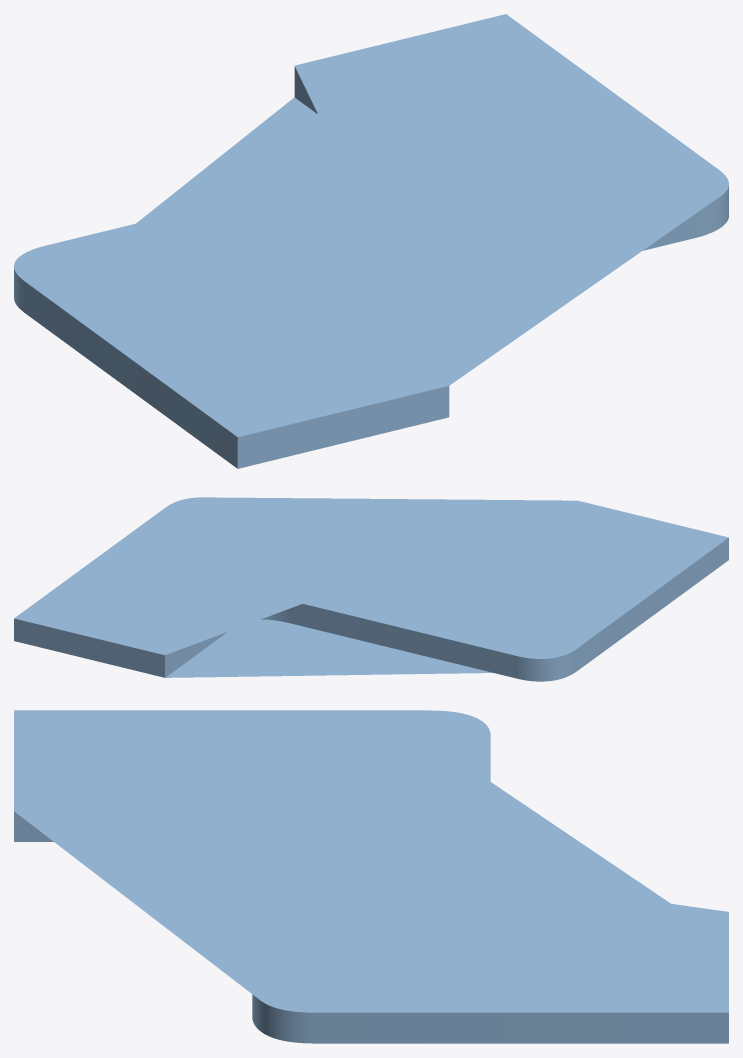
The model's file is sBend1.fbx.
The picture shows the model from 3 angles, top to bottom: view 1: azimuth 30°, elevation 25°; view 2: azimuth 150°, elevation 25°; view 3: azimuth 270°, elevation 25°; orthographic projection. The views are drawn at different scales.
Parts seen in each view (by area): view 1: sBend; view 2: sBend; view 3: sBend.
Boxes of the visible parts, x1,y1,x2,y2 form: sBend: (14, 14, 728, 468); sBend: (14, 497, 728, 681); sBend: (14, 710, 728, 1043).
Bounding box in the file's own units: 1050 × 50 × 1050.
